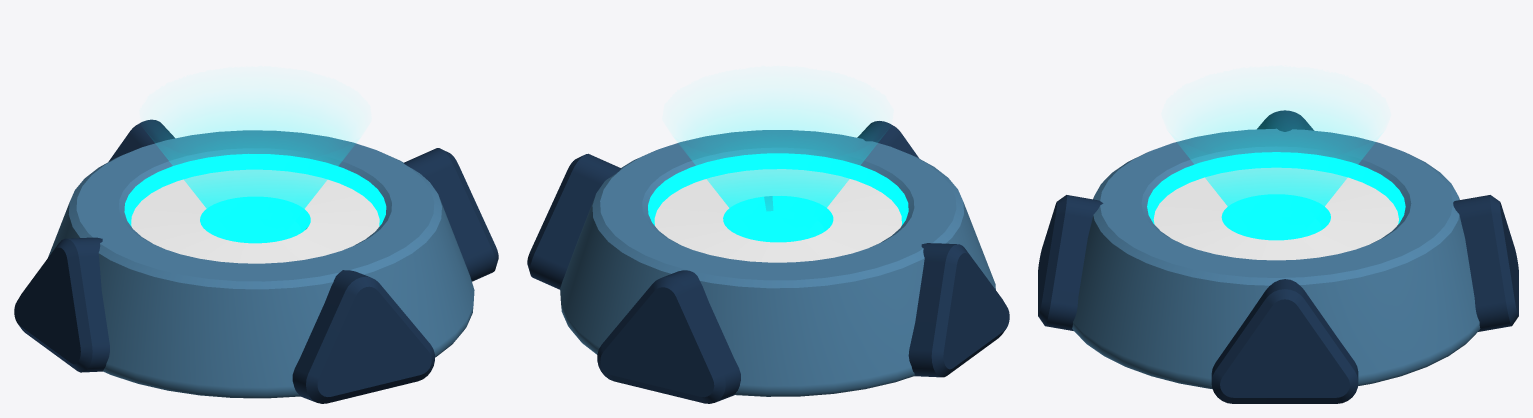
Rendered from Podium_01.27fe101b.gltf.
The picture shows the model from 3 angles, left to right: view 1: azimuth 30°, elevation 25°; view 2: azimuth 150°, elevation 25°; view 3: azimuth 270°, elevation 25°; orthographic projection.
Parts seen in each view (by area): view 1: pCylinder9.012, pCone1.012, pCube56.012, pCube53.012, pCube52.012; view 2: pCylinder9.012, pCone1.012, pCube56.012, pCube52.012, pCube53.012; view 3: pCylinder9.012, pCone1.012, pCube56.012, pCube52.012, pCube53.012.
Boxes of the visible parts, x1,y1,x2,y2 form: pCylinder9.012: [48, 130, 474, 398]; pCone1.012: [157, 109, 352, 243]; pCube56.012: [14, 148, 498, 372]; pCube53.012: [292, 270, 434, 403]; pCube52.012: [108, 119, 174, 161]; pCylinder9.012: [560, 130, 995, 396]; pCone1.012: [681, 108, 875, 242]; pCube56.012: [527, 153, 1009, 377]; pCube52.012: [597, 270, 740, 403]; pCube53.012: [857, 121, 919, 158]; pCylinder9.012: [1072, 128, 1480, 389]; pCone1.012: [1180, 108, 1372, 240]; pCube56.012: [1211, 110, 1358, 403]; pCube52.012: [1453, 195, 1518, 331]; pCube53.012: [1038, 195, 1103, 330].
Size of the model in its own units: 5.59 by 3.02 by 5.59.
Materials: 5 (1 with a texture image).
